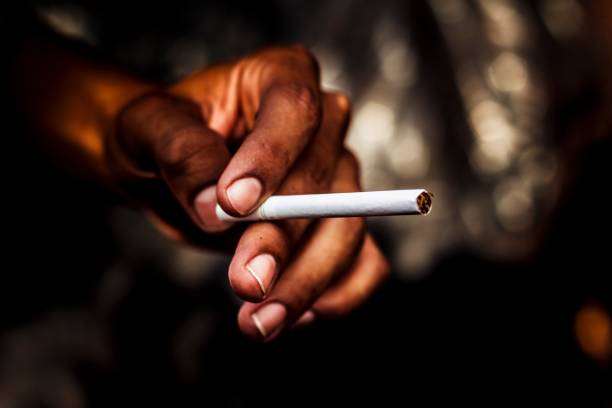cigarette: (217, 189, 435, 224)
